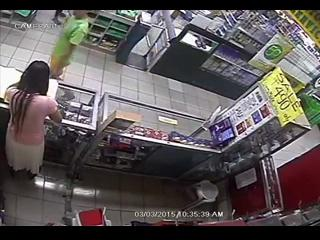Normal: (4, 60, 64, 180), (49, 11, 94, 80)
